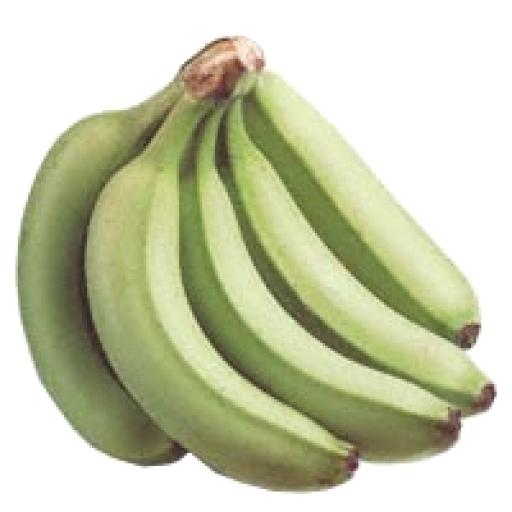banana-unripe: (8, 9, 512, 485)
